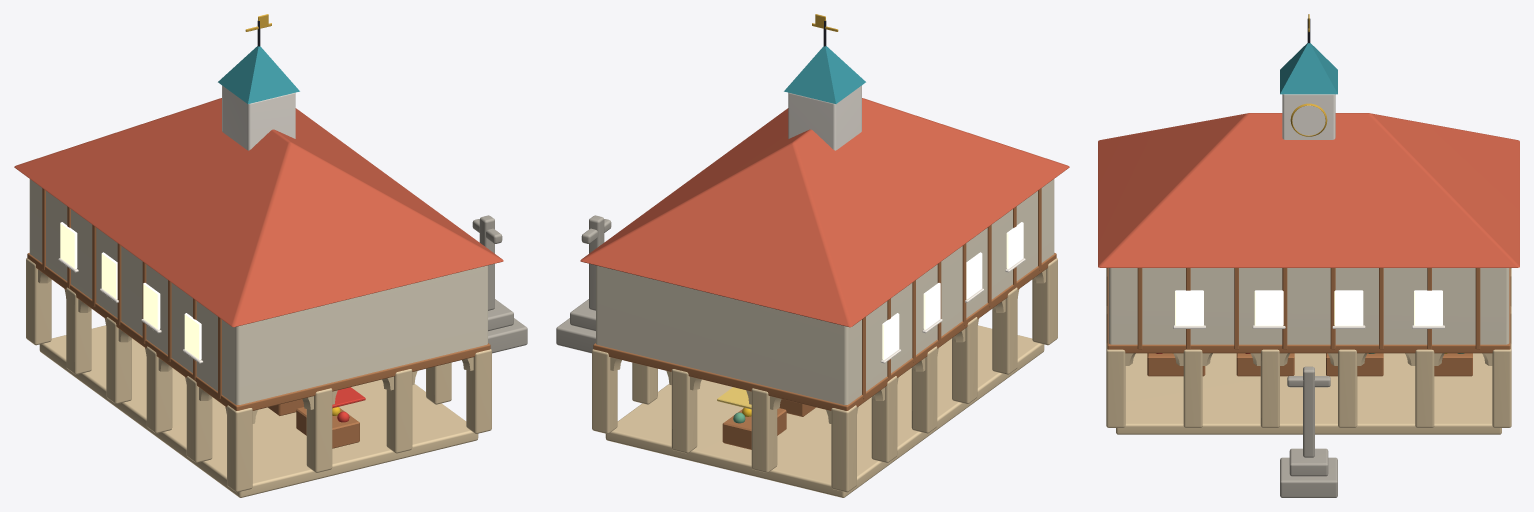
The model's file is market_hall.glb.
3 renders of one model, left to right at view 1: azimuth 30°, elevation 25°; view 2: azimuth 150°, elevation 25°; view 3: azimuth 270°, elevation 25°, orthographic. The views are drawn at different scales.
Visible parts, largest first — view 1: market_hall; view 2: market_hall; view 3: market_hall.
Boxes of the visible parts, x1,y1,x2,y2 form: market_hall: [14, 14, 527, 497]; market_hall: [556, 14, 1069, 497]; market_hall: [1098, 14, 1519, 497].
Bounding box in the file's own units: 17.94 × 16.7 × 17.49.
1 material, 1 textured.
